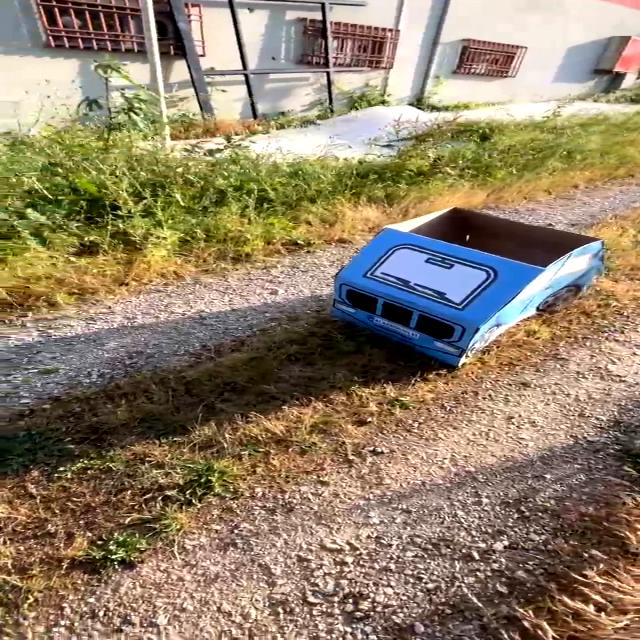blue_car: (266, 179, 640, 398)
